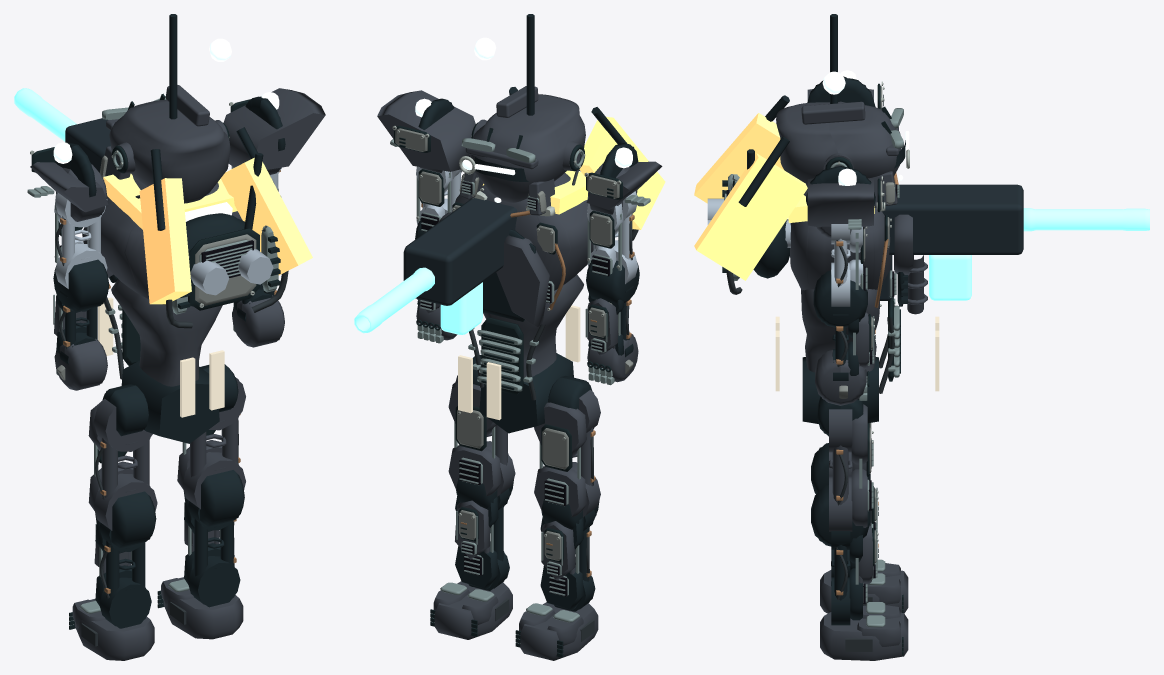
The model's file is grok.glb.
3 views of the same model, side by side, from view 1: azimuth 30°, elevation 25°; view 2: azimuth 150°, elevation 25°; view 3: azimuth 270°, elevation 25° (orthographic). The views are drawn at different scales.
Parts seen in each view (by area): view 1: LOD7_Batch3, LOD3_Batch9, LOD3_Batch47, LOD1_Batch5, LOD3_Batch37, LOD3_Batch55, LOD3_Batch67, LOD3_Batch60, LOD3_Batch43, LOD3_Batch51, LOD3_Batch64, LOD3_Batch49 (+36 smaller); view 2: LOD3_Batch9, LOD7_Batch41, LOD3_Batch43, LOD3_Batch55, LOD3_Batch37, LOD1_Batch48, LOD7_Batch42, LOD3_Batch58, LOD3_Batch49, LOD3_Batch67, LOD3_Batch64, LOD3_Batch47 (+40 smaller); view 3: LOD7_Batch3, LOD7_Batch41, LOD3_Batch9, LOD3_Batch43, LOD7_Batch42, LOD3_Batch64, LOD3_Batch58, LOD3_Batch37, LOD3_Batch60, LOD3_Batch32, LOD3_Batch47, LOD3_Batch34 (+16 smaller).
Part boxes in pixels (x1,y1,x2,y2): LOD7_Batch3: (139,157,312,304); LOD3_Batch9: (104,85,230,203); LOD3_Batch47: (111,279,222,386); LOD1_Batch5: (166,225,288,328); LOD3_Batch37: (223,88,325,169); LOD3_Batch55: (88,398,157,530); LOD3_Batch67: (121,360,219,443); LOD3_Batch60: (184,498,240,607); LOD3_Batch43: (82,175,242,304); LOD3_Batch51: (95,520,151,628); LOD3_Batch64: (177,379,245,508); LOD3_Batch49: (72,599,154,660); LOD3_Batch9: (459,86,585,215); LOD7_Batch41: (403,198,517,305); LOD3_Batch43: (438,173,593,326); LOD3_Batch55: (534,390,600,517); LOD3_Batch37: (377,90,475,171); LOD1_Batch48: (468,317,545,400); LOD7_Batch42: (354,267,482,334); LOD3_Batch58: (433,581,512,639); LOD3_Batch49: (519,602,598,660); LOD3_Batch67: (479,353,573,433); LOD3_Batch64: (448,375,515,496); LOD3_Batch47: (483,274,583,377); LOD7_Batch3: (694,113,807,280); LOD7_Batch41: (879,184,1023,300); LOD3_Batch9: (776,101,901,207); LOD3_Batch43: (790,190,927,314); LOD7_Batch42: (929,208,1149,300); LOD3_Batch64: (829,404,867,531); LOD3_Batch58: (820,605,908,660); LOD3_Batch37: (807,178,873,227); LOD3_Batch60: (831,531,862,625); LOD3_Batch32: (815,312,869,405); LOD3_Batch47: (801,289,879,372); LOD3_Batch34: (831,224,862,306).
Bounding box in the file's own units: 0.9318 × 2.03 × 1.37.
